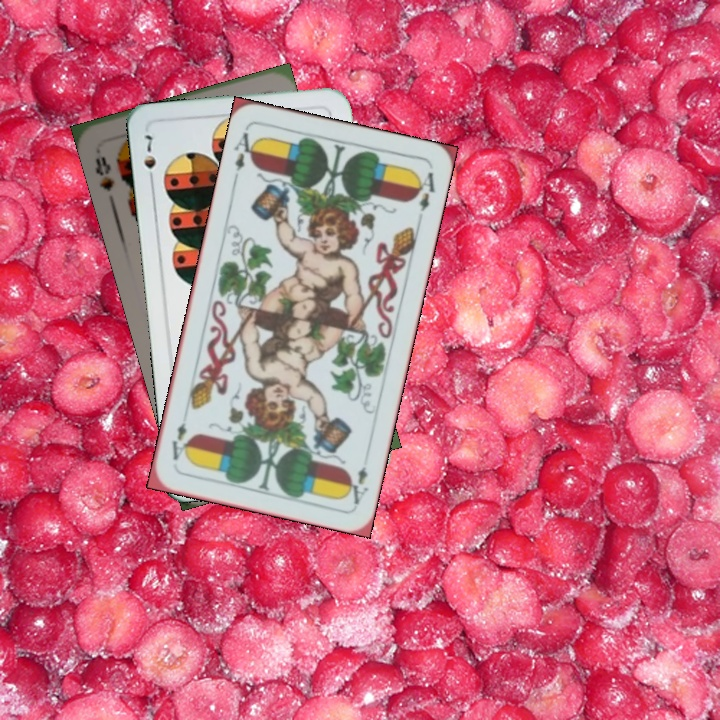EA: (230, 125, 260, 174), (342, 462, 371, 507)
S7: (140, 130, 159, 187)
S8: (91, 152, 117, 194)
